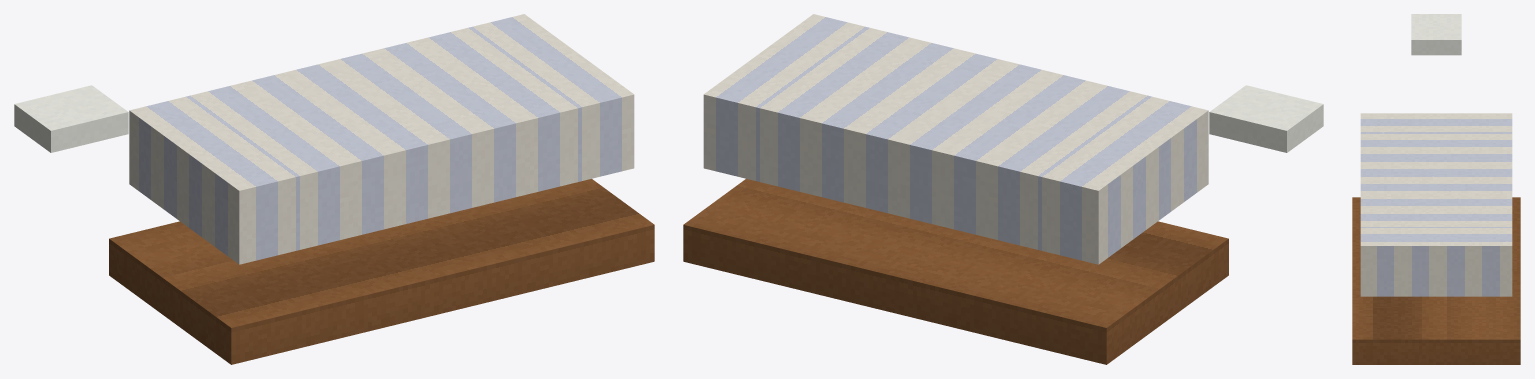
The model's file is Bed.glb.
3 renders of one model, left to right at view 1: azimuth 30°, elevation 25°; view 2: azimuth 150°, elevation 25°; view 3: azimuth 270°, elevation 25°, orthographic. The views are drawn at different scales.
Visible parts, largest first — view 1: Bed; view 2: Bed; view 3: Bed.
Part boxes in pixels (x1,y1,x2,y2): Bed: (14,14,654,364); Bed: (683,14,1323,364); Bed: (1352,14,1520,364).
Size of the model in its own units: 3.98 by 1.6 by 1.5.
Materials: 3 (3 with a texture image).
